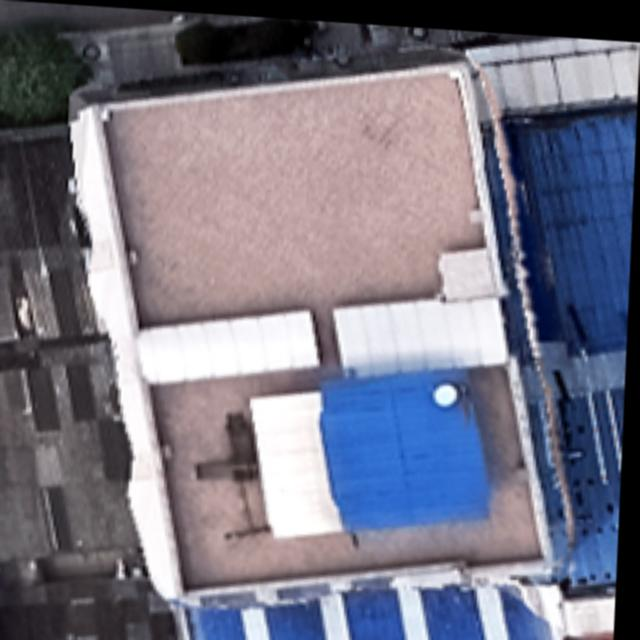Batiment: (78, 56, 551, 600), (254, 364, 491, 533)
